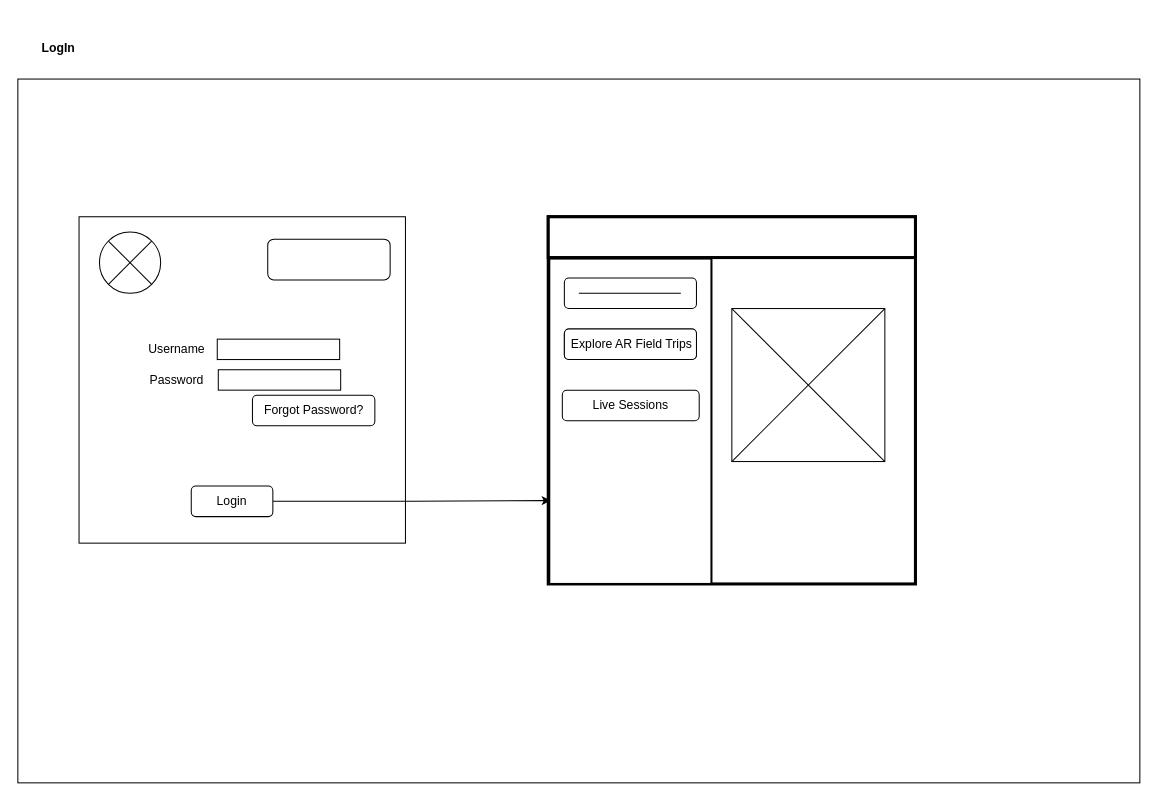
Image size: 1158x801. Some labels were removed from this diagram. The box of each missing label's shape, as (x1, y1, x2, y2) in pixels:
Guest Mode: (267, 238, 390, 280)
Student Dashboard: (546, 215, 916, 259)
